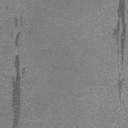red iron: (113, 0, 126, 60), (12, 54, 21, 128), (15, 32, 20, 46), (118, 80, 122, 94), (14, 18, 18, 27), (22, 68, 25, 74)
